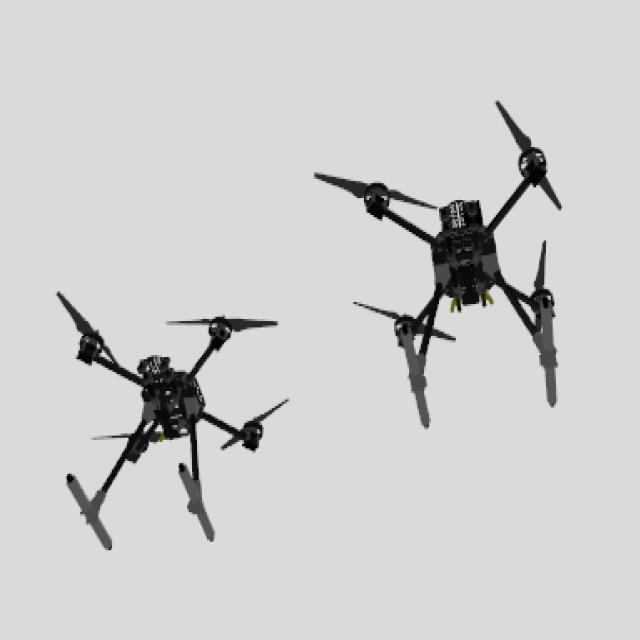drone: (312, 96, 588, 436), (48, 284, 291, 552)
